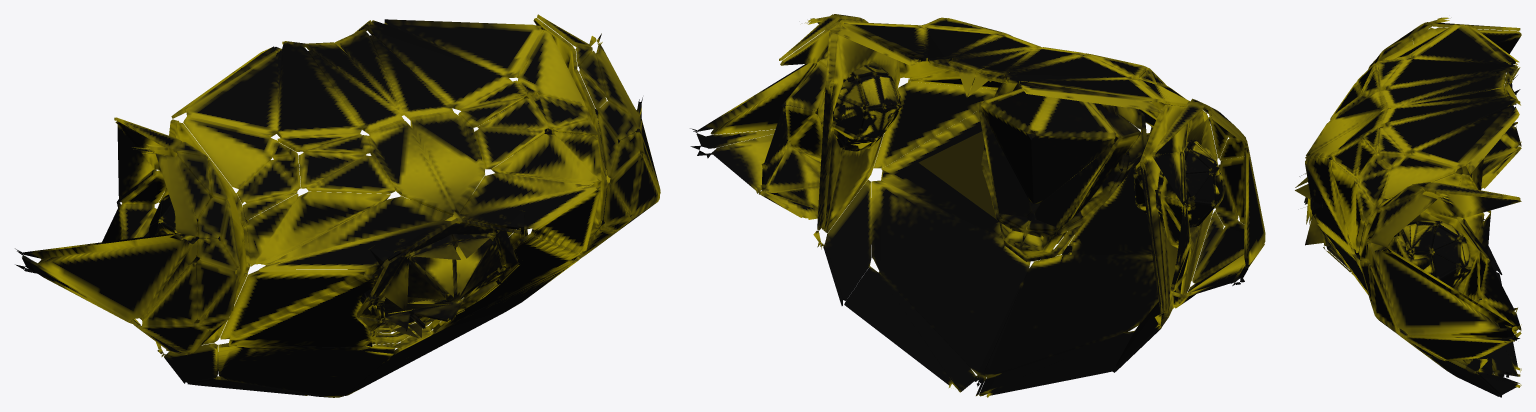
File: necK.glb
3 renders of one model, left to right at view 1: azimuth 30°, elevation 25°; view 2: azimuth 150°, elevation 25°; view 3: azimuth 270°, elevation 25°, orthographic. The views are drawn at different scales.
Parts seen in each view (by area): view 1: Ultron 1; view 2: Ultron 1; view 3: Ultron 1.
Part boxes in pixels (x1,y1,x2,y2): Ultron 1: [15, 14, 660, 397]; Ultron 1: [690, 14, 1265, 397]; Ultron 1: [1295, 17, 1521, 397].
Bounding box in the file's own units: 1.2 × 0.6628 × 0.4593.
Materials: 1 (1 with a texture image).
